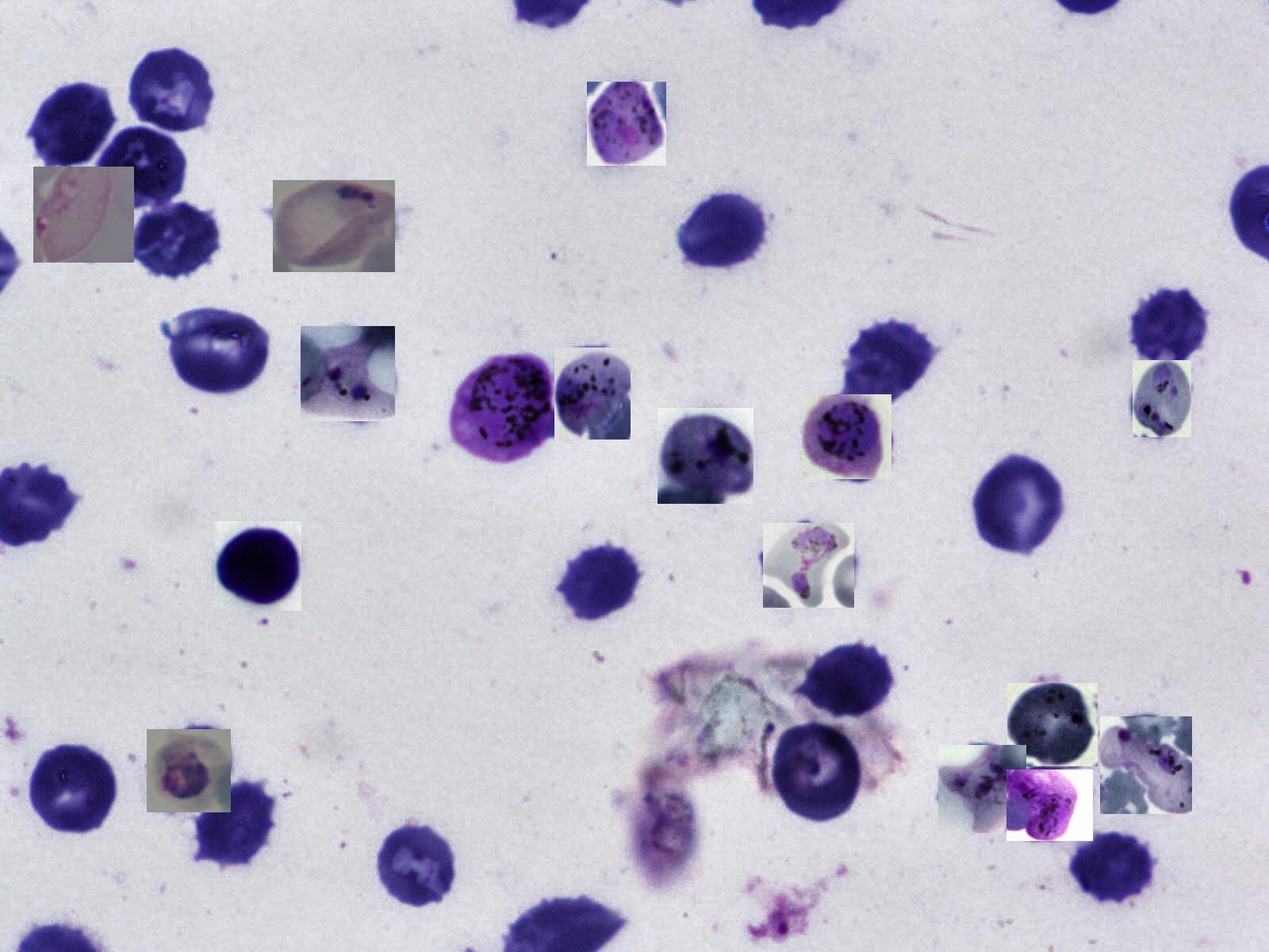Infected: (446, 355, 555, 463), (273, 180, 395, 272), (33, 167, 134, 263), (658, 408, 754, 504), (1100, 716, 1192, 814), (301, 326, 395, 421), (214, 521, 301, 611), (938, 745, 1026, 833), (763, 523, 854, 608), (802, 394, 891, 479), (1007, 683, 1098, 766), (554, 347, 631, 440), (147, 729, 231, 812), (587, 82, 666, 166), (1006, 770, 1093, 841), (1133, 361, 1191, 438)
Uninfected: (163, 301, 274, 398), (972, 451, 1060, 560), (771, 724, 863, 820), (129, 45, 219, 137), (29, 745, 118, 834), (845, 317, 937, 401), (102, 125, 188, 211), (29, 83, 109, 174), (196, 781, 279, 868), (798, 643, 894, 716), (558, 541, 645, 621), (128, 205, 220, 278), (1071, 832, 1159, 908), (678, 194, 767, 268), (378, 824, 453, 908), (1125, 289, 1206, 363)
